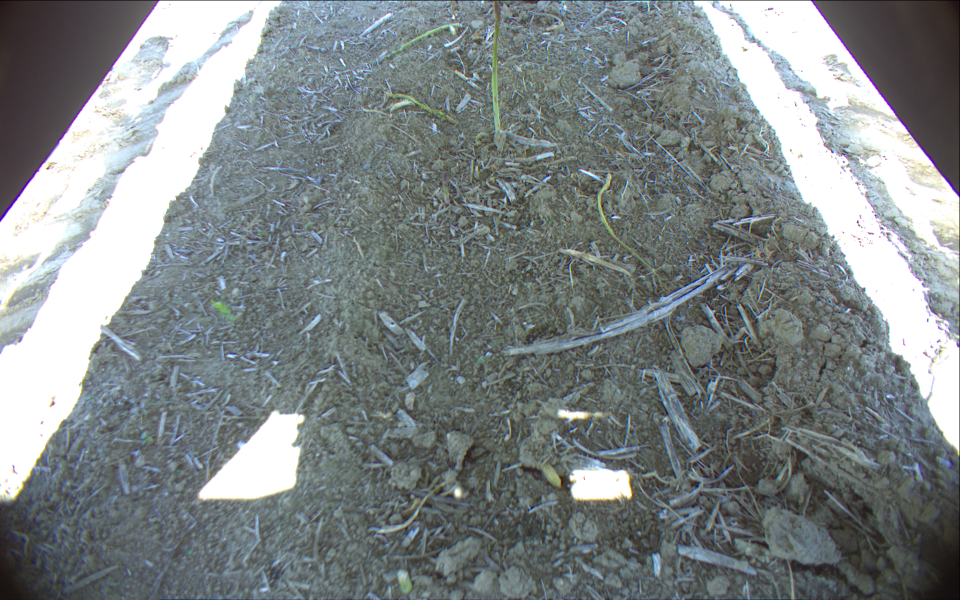aspa: (488, 1, 508, 140)
